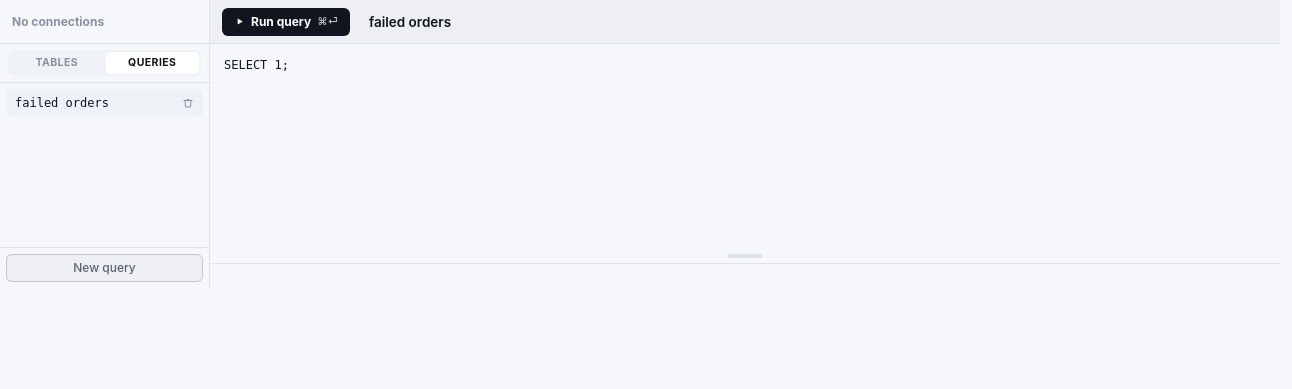
Test case: QueryTab › does not offer staging while rollback is still pending
This screenshot has width=1292, height=389.
Click the button "Run query ⌘⏎".
click(286, 22)  # box left=222, top=8, right=350, bottom=36
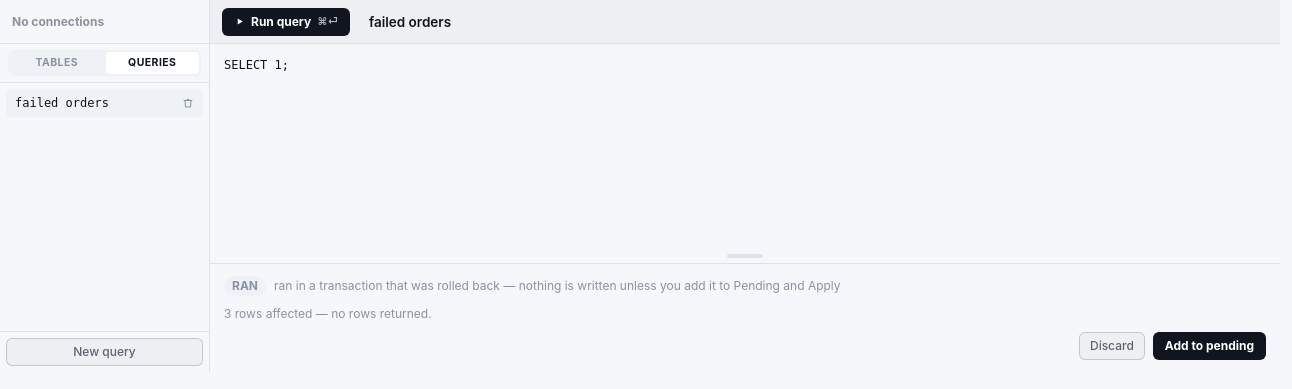
Result: the button "Add to pending" is enabled at left=1153, top=332, right=1266, bottom=360
